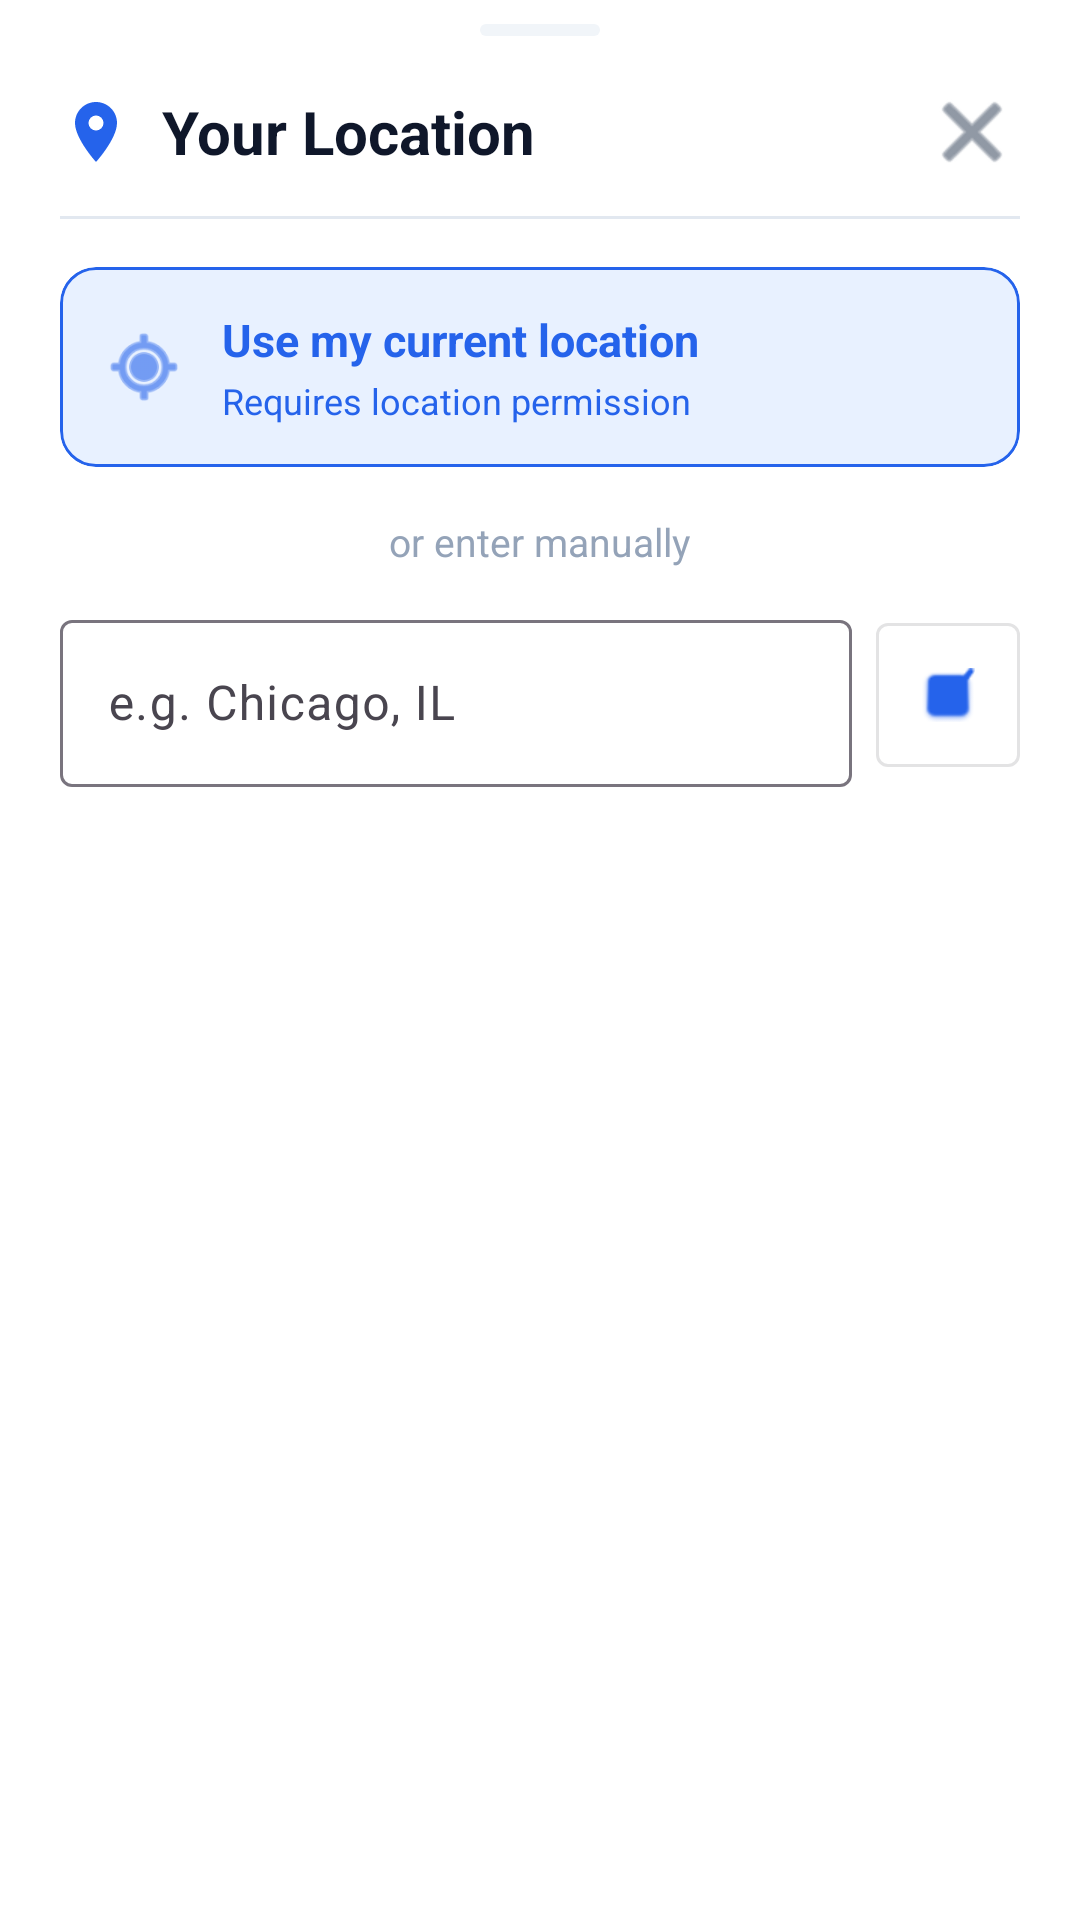

Icon bounding boxes for this 1080 x 1920 phone screenshot, format (x1, y1, x2, y2):
Close: (942, 102, 1002, 162)
mylocation: (110, 333, 178, 401)
